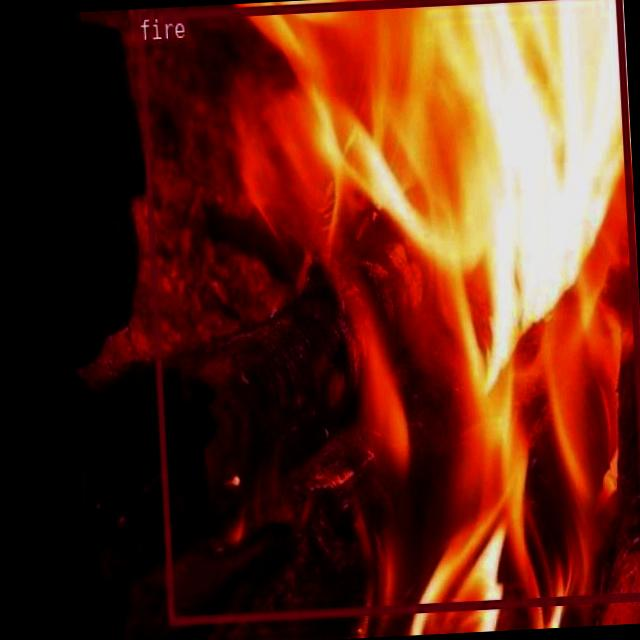fire: (136, 0, 640, 624)
